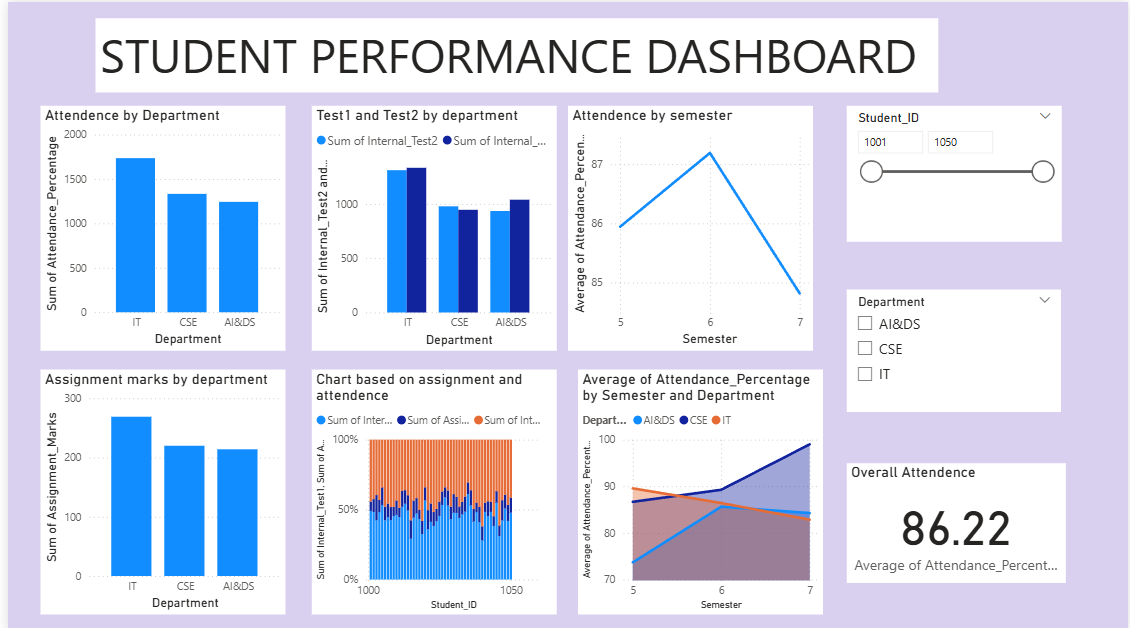

The dashboard page shown, as its layout file describes it:
{"tool":"powerbi","page":{"name":"Page 1","canvas":[1280,720],"ordinal":0},"visuals":[{"type":"clusteredColumnChart","title":"Attendence by Department","fields":{"Y":["Sum(5 student_performance (1).Attendance_Percentage)"],"Category":["5 student_performance (1).Department"]},"box":[36.7,118.3,280,280],"z":0},{"type":"card","title":"Overall Attendence","fields":{"Values":["Avg(5 student_performance (1).Attendance_Percentage)"]},"box":[958.3,526.7,250,136.7],"z":1000},{"type":"clusteredColumnChart","title":"Test1 and Test2 by department","fields":{"Category":["5 student_performance (1).Department"],"Y":["Sum(5 student_performance (1).Internal_Test2)","Sum(5 student_performance (1).Internal_Test1)"]},"box":[346.7,118.3,280,280],"z":2000},{"type":"clusteredColumnChart","title":"Assignment marks by department","fields":{"Category":["5 student_performance (1).Department"],"Y":["Sum(5 student_performance (1).Assignment_Marks)"]},"box":[36.7,420,280,280],"z":3000},{"type":"lineChart","title":"Attendence by semester","fields":{"Category":["5 student_performance (1).Semester"],"Y":["Avg(5 student_performance (1).Attendance_Percentage)"]},"box":[640,118.3,280,280],"z":4000},{"type":"slicer","fields":{"Values":["5 student_performance (1).Student_ID"]},"box":[958.6,118.6,245.7,154.3],"z":5000},{"type":"slicer","fields":{"Values":["5 student_performance (1).Department"]},"box":[958.3,328.3,245,140],"z":6000},{"type":"hundredPercentStackedColumnChart","title":"Chart based on assignment and attendence","fields":{"Category":["5 student_performance (1).Student_ID"],"Y":["Sum(5 student_performance (1).Internal_Test1)","Sum(5 student_performance (1).Assignment_Marks)","Sum(5 student_performance (1).Internal_Test2)"]},"box":[346.7,420,280,280],"z":7000},{"type":"areaChart","fields":{"Category":["5 student_performance (1).Semester"],"Series":["5 student_performance (1).Department"],"Y":["Avg(5 student_performance (1).Attendance_Percentage)"]},"box":[651.7,420,280,280],"z":8000},{"type":"textbox","box":[100,18.3,963.3,85],"z":8001}]}

Visuals, with their boxes in screenshot pixels (x1, y1, x2, y2), scaled from the page's 1280x720 canvas onto the 1130x628 screenshot:
"Attendence by Department" clusteredColumnChart: select_region(32, 103, 280, 347)
"Overall Attendence" card: select_region(846, 459, 1067, 579)
"Test1 and Test2 by department" clusteredColumnChart: select_region(306, 103, 553, 347)
"Assignment marks by department" clusteredColumnChart: select_region(32, 366, 280, 611)
"Attendence by semester" lineChart: select_region(565, 103, 812, 347)
slicer - 5 student_performance (1).Student_ID: select_region(846, 103, 1063, 238)
slicer - 5 student_performance (1).Department: select_region(846, 286, 1062, 408)
"Chart based on assignment and attendence" hundredPercentStackedColumnChart: select_region(306, 366, 553, 611)
areaChart - 5 student_performance (1).Semester x 5 student_performance (1).Department: select_region(575, 366, 823, 611)
textbox: select_region(88, 16, 939, 90)
